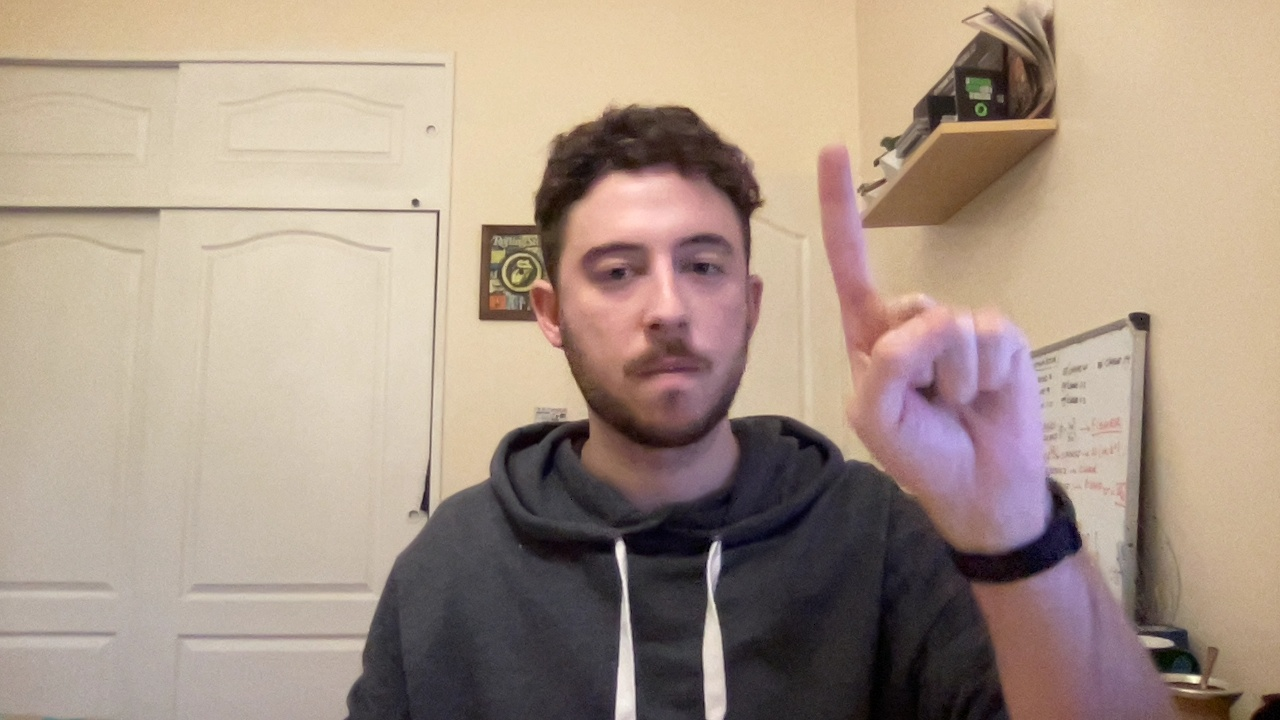indice: (802, 137, 1104, 556)
